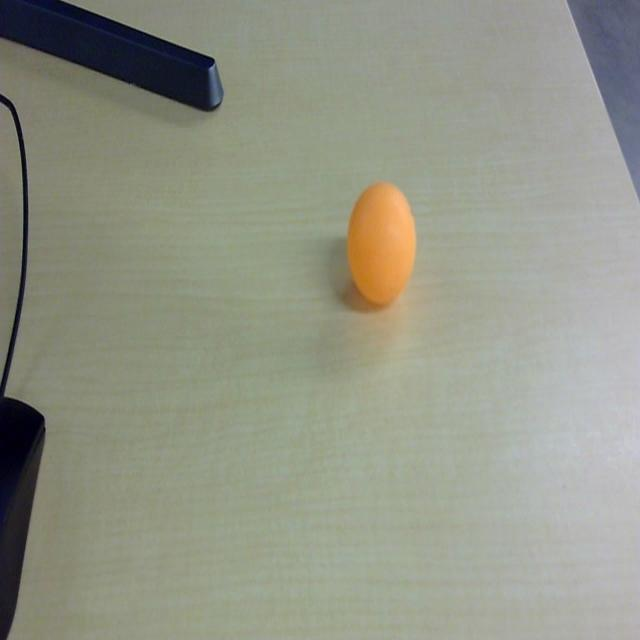ball: (347, 181, 417, 307)
